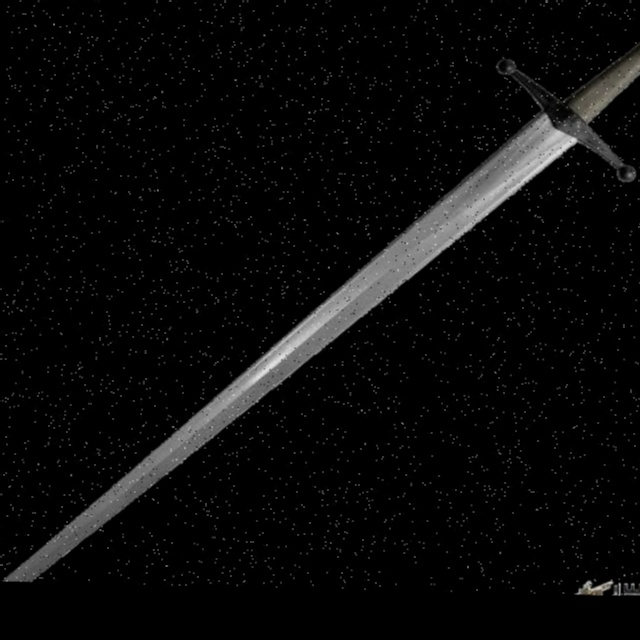Sharp-Object: (0, 23, 640, 577)
